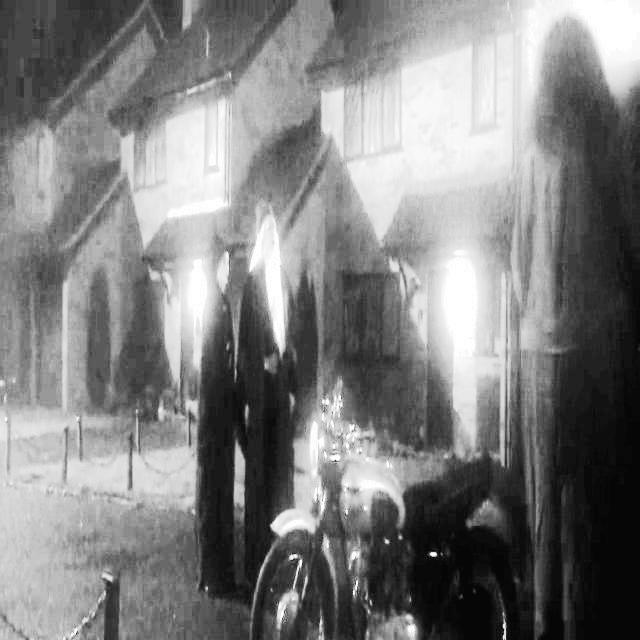Motorcycle: (249, 383, 518, 640)
